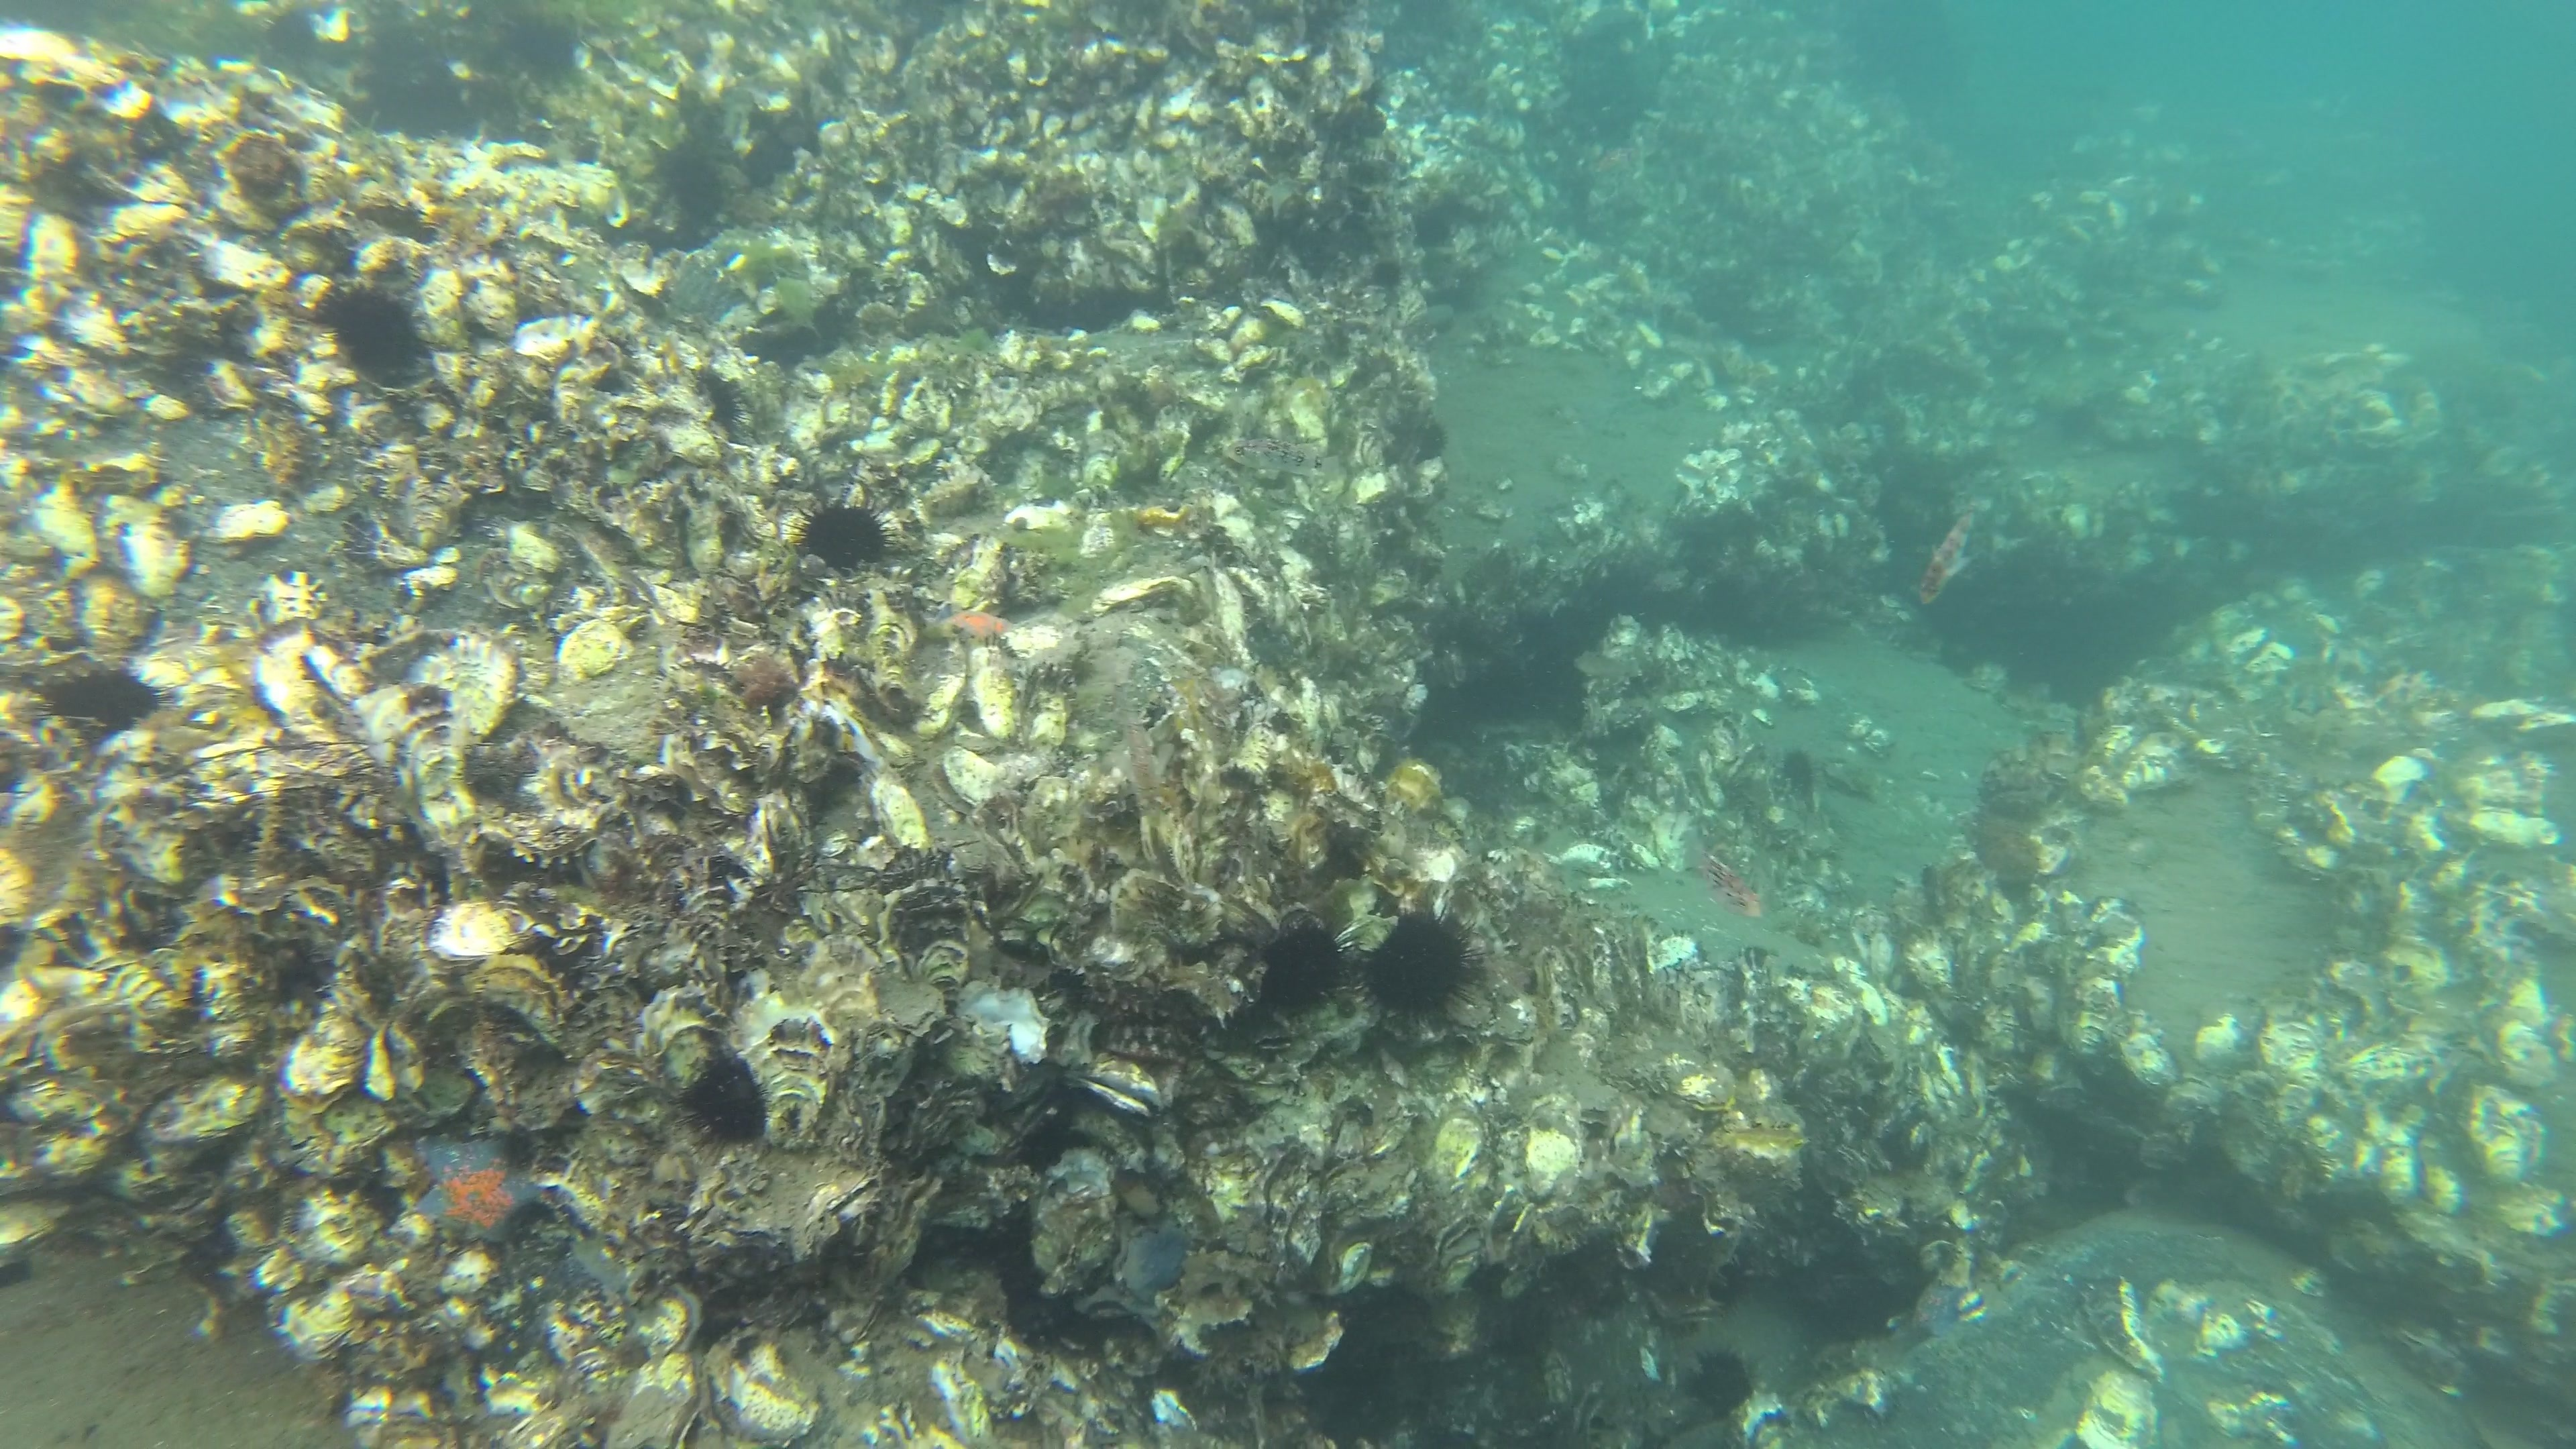echinus: (1355, 899, 1493, 1039), (310, 280, 441, 391), (23, 660, 177, 747), (663, 1049, 777, 1161), (778, 490, 908, 582), (635, 122, 743, 232), (1253, 913, 1357, 1026), (1677, 1341, 1753, 1421), (685, 363, 752, 442), (1773, 741, 1824, 809)
scallop: (925, 741, 1007, 821)
starfish: (402, 1129, 554, 1249), (931, 602, 1021, 653), (1909, 1272, 1971, 1343), (1414, 412, 1451, 469)
